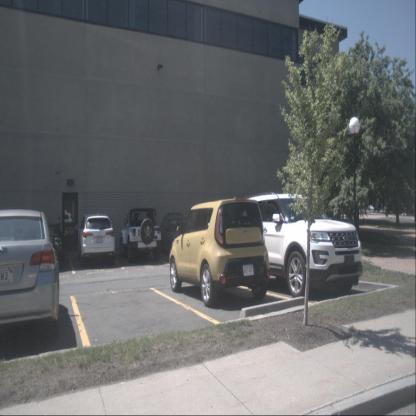vehicle-car: (233, 191, 363, 298), (170, 196, 270, 307), (0, 209, 60, 341), (120, 209, 162, 262), (75, 213, 116, 267), (160, 212, 191, 258), (35, 221, 65, 268)
